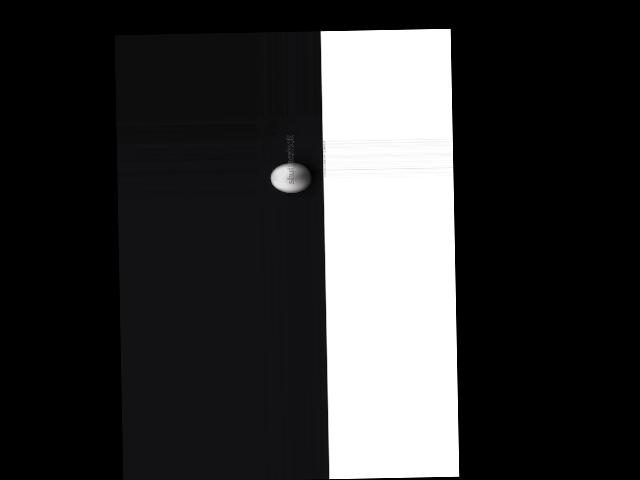egg: (269, 162, 311, 193)
